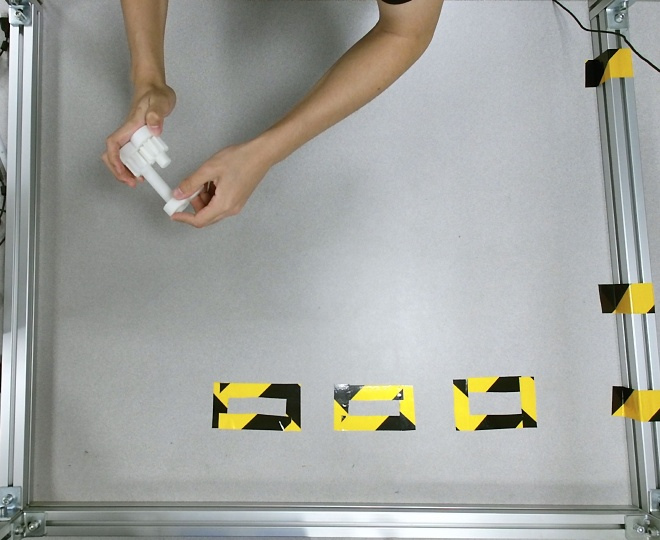stage_3: (119, 124, 204, 215)
